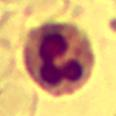eosi: (21, 19, 96, 97)
